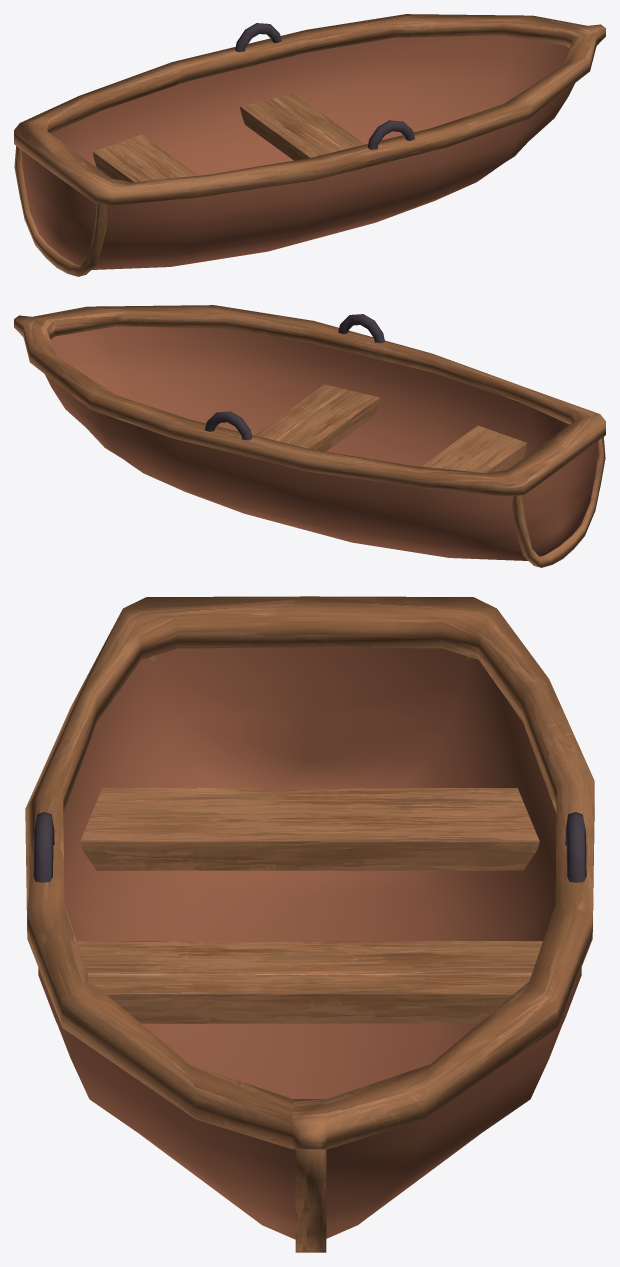
File: Boat.fbx
3 views of the same model, one above another, from view 1: azimuth 30°, elevation 25°; view 2: azimuth 150°, elevation 25°; view 3: azimuth 270°, elevation 25° (orthographic). The views are drawn at different scales.
Parts seen in each view (by area): view 1: Boat; view 2: Boat; view 3: Boat.
Part boxes in pixels (<box>): Boat: <box>14,14,605,276</box>; Boat: <box>14,305,605,567</box>; Boat: <box>25,596,594,1252</box>.
Size of the model in its own units: 4.15 by 1.03 by 1.86.
